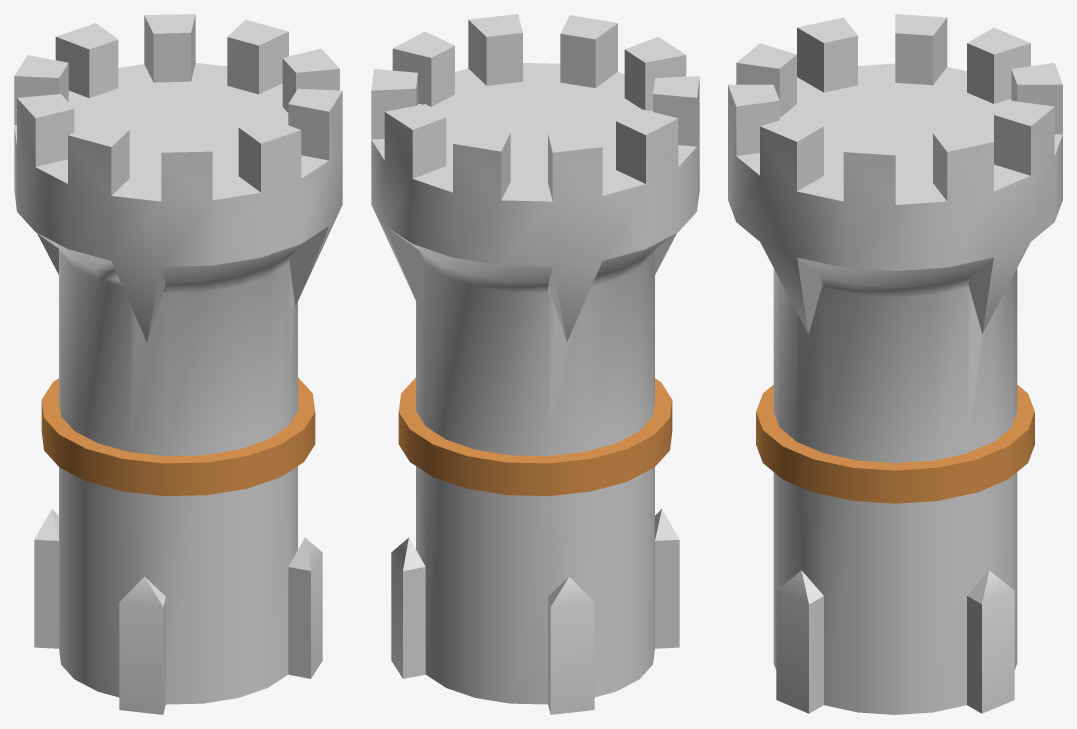
Rendered from Tower3.fbx.
3 renders of one model, left to right at view 1: azimuth 30°, elevation 25°; view 2: azimuth 150°, elevation 25°; view 3: azimuth 270°, elevation 25°, orthographic.
Visible parts, largest first — view 1: Tower3; view 2: Tower3; view 3: Tower3.
Boxes of the visible parts, x1,y1,x2,y2 form: Tower3: [14, 14, 342, 714]; Tower3: [371, 14, 699, 714]; Tower3: [728, 14, 1062, 714].
Bounding box in the file's own units: 1060 × 2022 × 1060.
